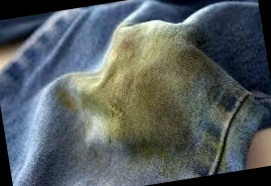earth: (72, 46, 201, 156)
